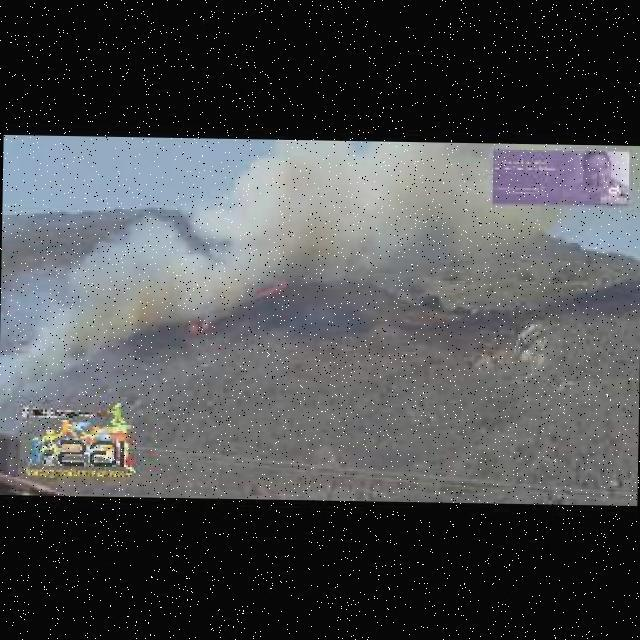Fire: (257, 283, 289, 298), (188, 316, 210, 334)
Smoke: (213, 139, 494, 310), (54, 215, 214, 347)
